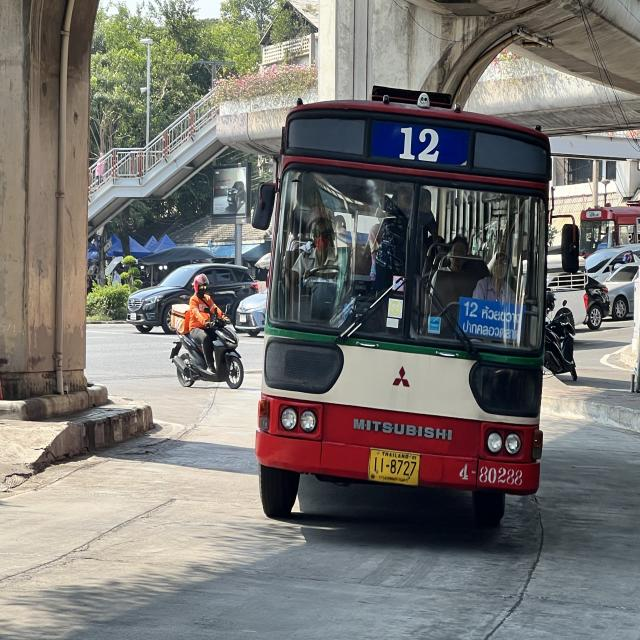BMTA-bus: (255, 89, 552, 529)
Bus-Line-Number: (362, 118, 475, 172)
Destination-Sign-Normal: (458, 297, 526, 349)
